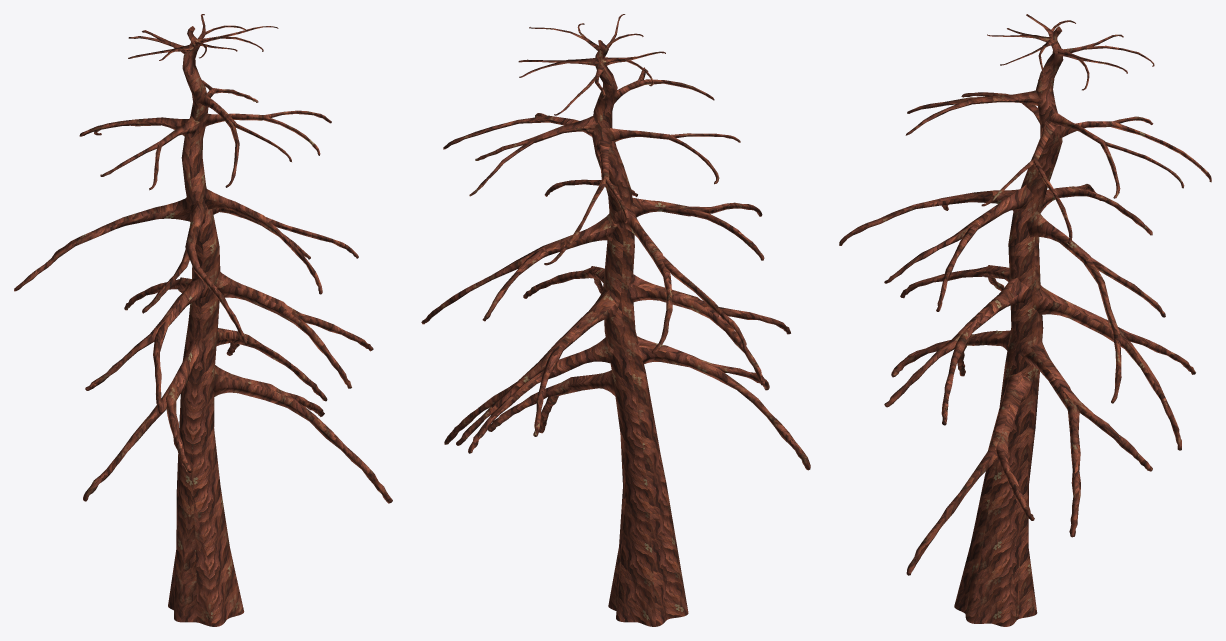
File: dtree_dead_5.glb
3 views of the same model, side by side, from view 1: azimuth 30°, elevation 25°; view 2: azimuth 150°, elevation 25°; view 3: azimuth 270°, elevation 25° (orthographic). The views are drawn at different scales.
Parts seen in each view (by area): view 1: model; view 2: model; view 3: model.
Part boxes in pixels (<box>): model: <box>14,14,392,626</box>; model: <box>421,14,810,626</box>; model: <box>839,14,1211,626</box>.
Bounding box in the file's own units: 4.09 × 7.21 × 4.12.
1 material, 1 textured.
